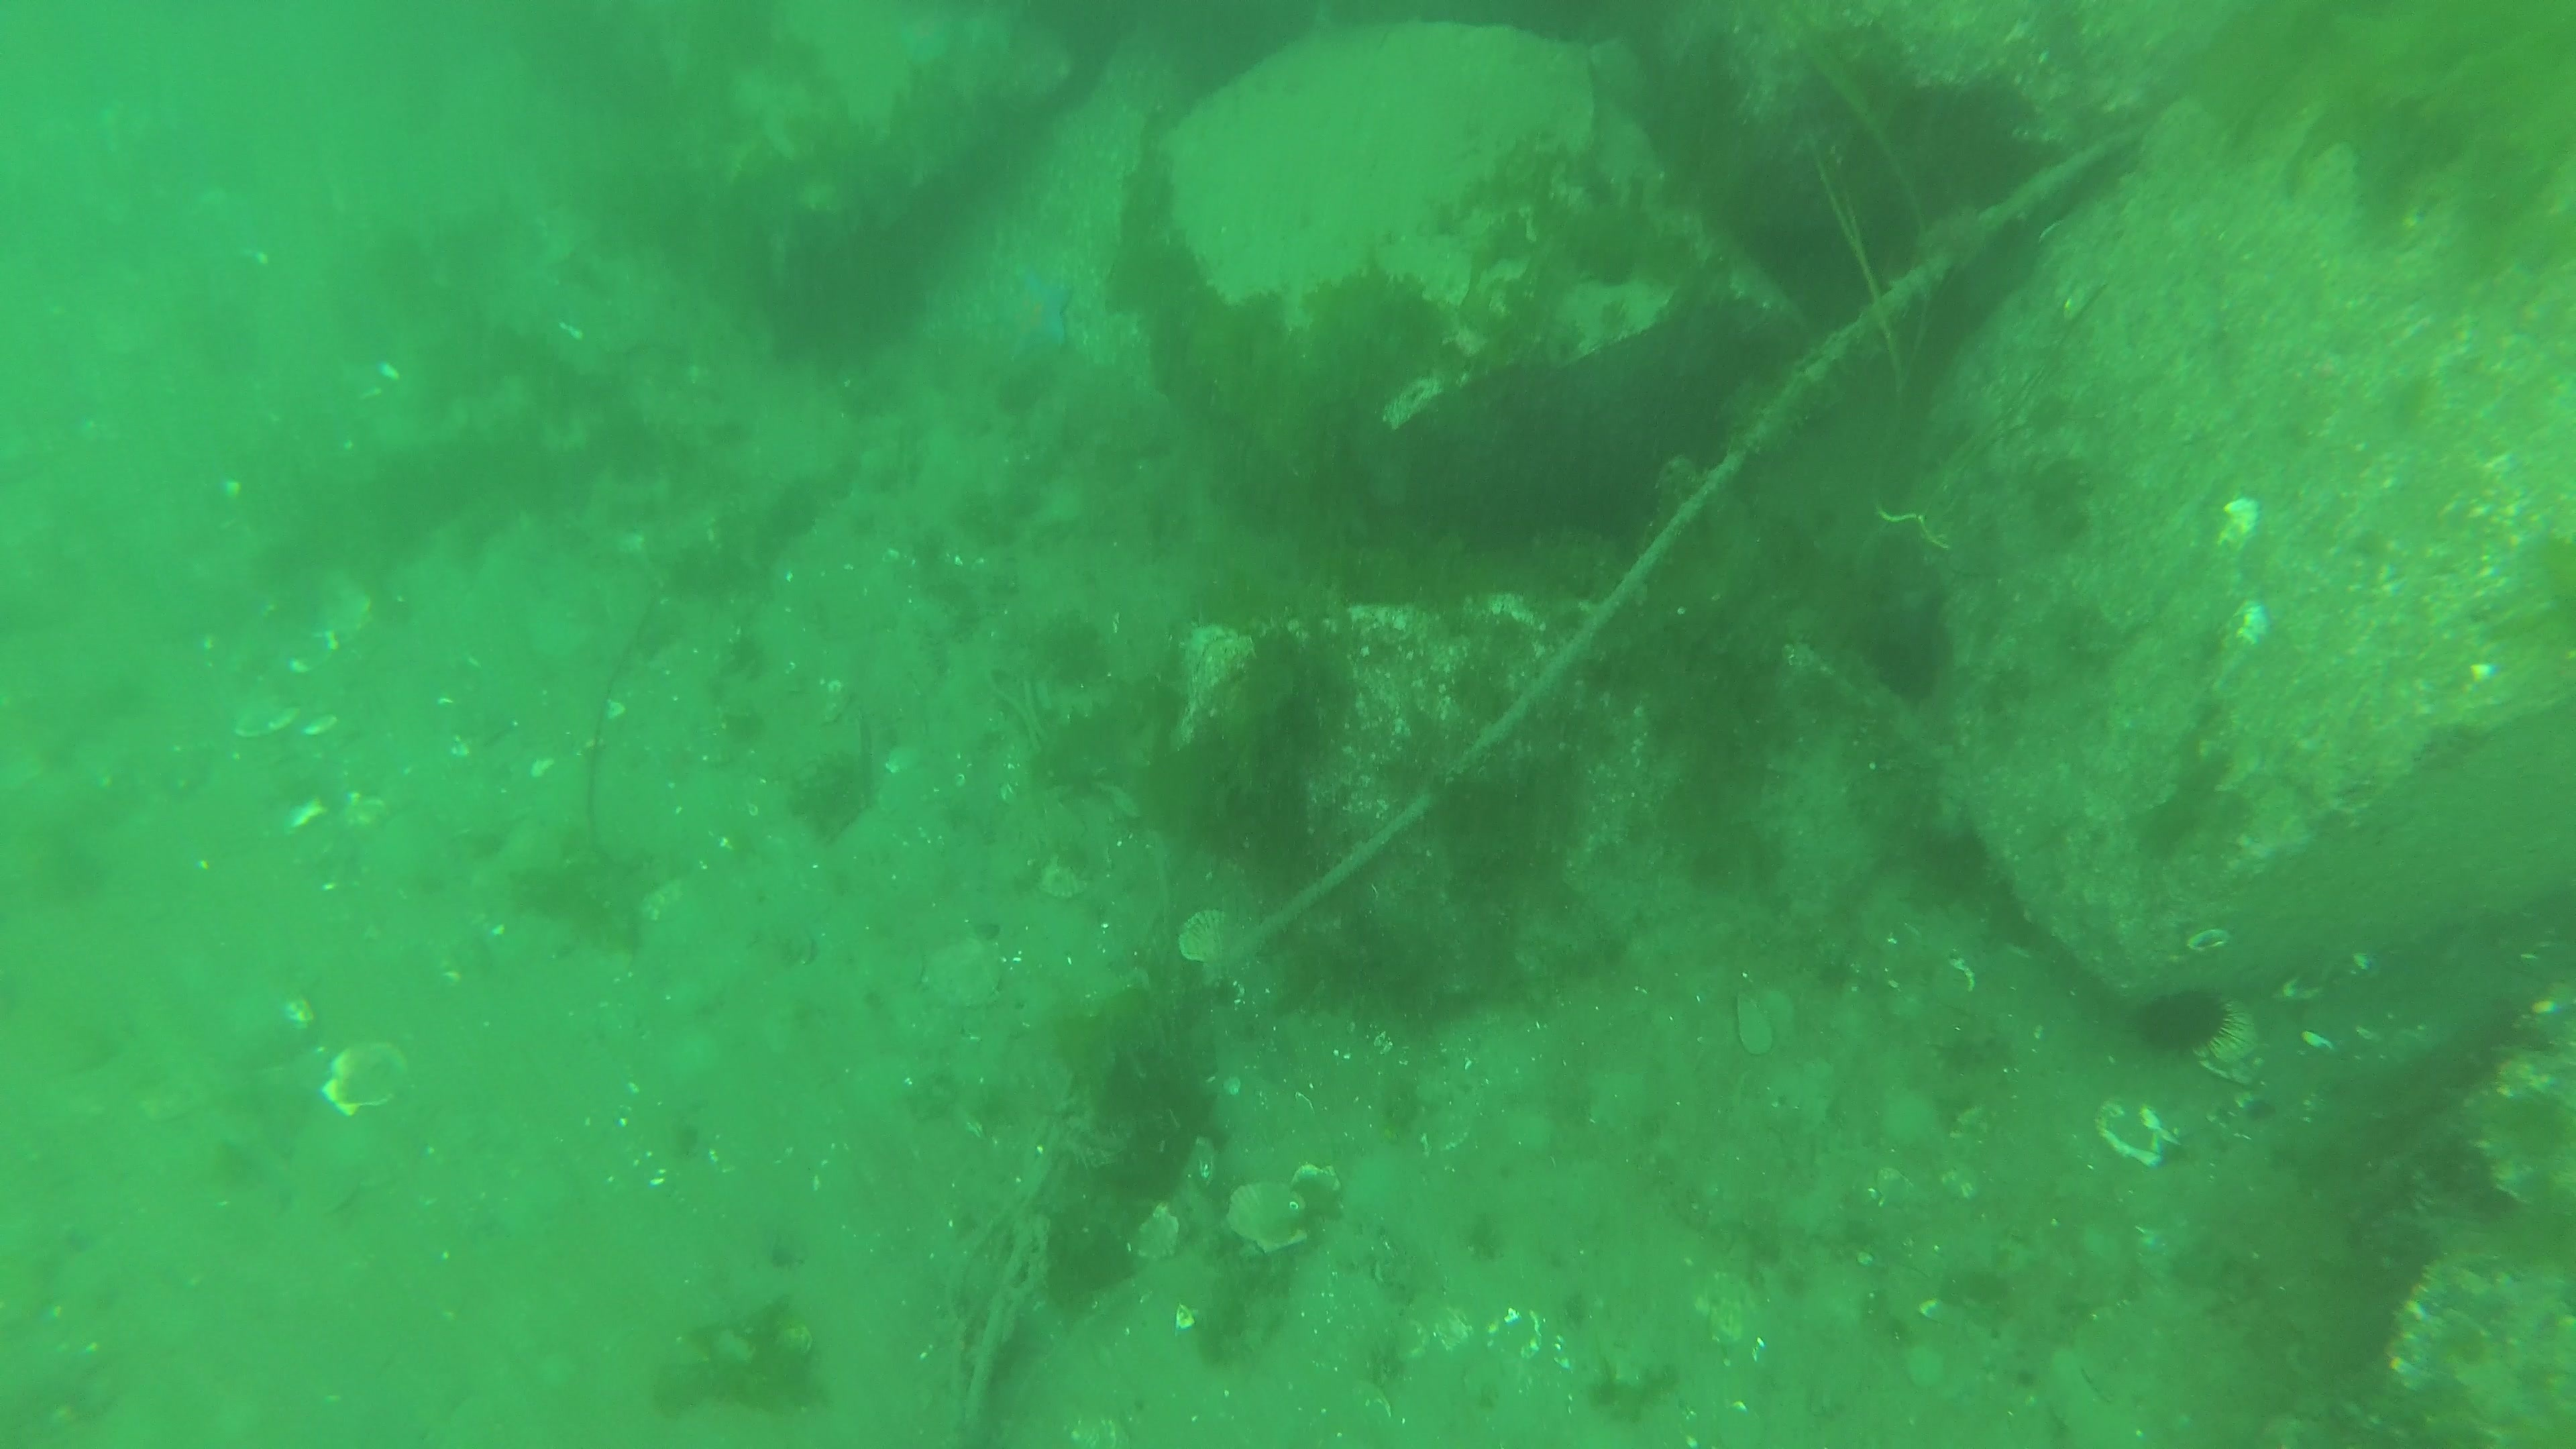echinus: (2130, 987, 2254, 1054), (1856, 621, 1937, 704), (1226, 1177, 1311, 1254), (918, 936, 1005, 1010), (1177, 904, 1249, 966), (1035, 849, 1092, 901)
scallop: (317, 1039, 414, 1120), (1007, 267, 1072, 357), (2190, 998, 2263, 1065)
